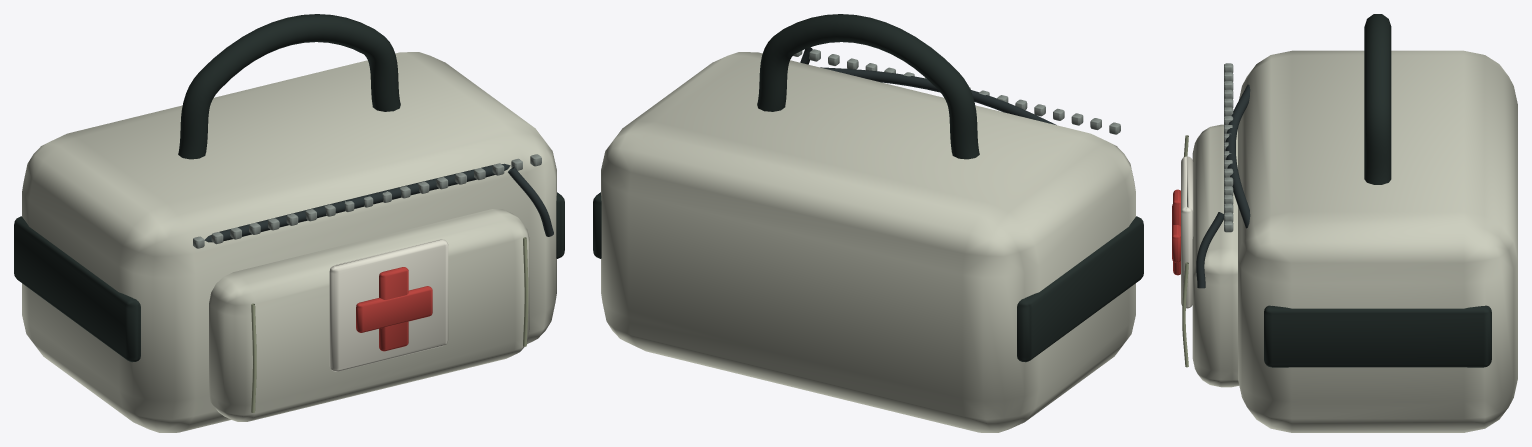
The model's file is medkit.glb.
The picture shows the model from 3 angles, left to right: view 1: azimuth 30°, elevation 25°; view 2: azimuth 150°, elevation 25°; view 3: azimuth 270°, elevation 25°; orthographic projection. The views are drawn at different scales.
Parts seen in each view (by area): view 1: MedkitMainBag, MedkitFrontPocket, MedkitHandle, MedkitCrossPatch, MedkitSideBand, MedkitCrossHorizontal, MedkitZipper, MedkitCrossVertical, MedkitZipPull, MedkitSideBand.001; view 2: MedkitMainBag, MedkitHandle, MedkitSideBand, MedkitZipper, MedkitSideBand.001; view 3: MedkitMainBag, MedkitSideBand.001, MedkitFrontPocket, MedkitHandle, MedkitCrossPatch, MedkitZipper, MedkitZipPull, MedkitPocketStitch.001, MedkitCrossVertical, MedkitCrossHorizontal.
Part boxes in pixels (left/top/right/bottom): MedkitMainBag: left=22, top=52, right=556, bottom=432; MedkitFrontPocket: left=209, top=209, right=529, bottom=421; MedkitHandle: left=178, top=14, right=400, bottom=159; MedkitCrossPatch: left=329, top=239, right=448, bottom=371; MedkitSideBand: left=14, top=216, right=140, bottom=362; MedkitCrossHorizontal: left=356, top=286, right=432, bottom=332; MedkitZipper: left=204, top=163, right=510, bottom=242; MedkitCrossVertical: left=379, top=267, right=408, bottom=351; MedkitZipPull: left=508, top=167, right=553, bottom=236; MedkitSideBand.001: left=556, top=192, right=564, bottom=258; MedkitMainBag: left=601, top=52, right=1135, bottom=432; MedkitHandle: left=757, top=14, right=979, bottom=159; MedkitSideBand: left=1017, top=216, right=1143, bottom=362; MedkitZipper: left=820, top=67, right=1056, bottom=125; MedkitSideBand.001: left=593, top=192, right=601, bottom=258; MedkitMainBag: left=1238, top=50, right=1517, bottom=432; MedkitSideBand.001: left=1264, top=305, right=1491, bottom=367; MedkitFrontPocket: left=1192, top=124, right=1239, bottom=387; MedkitHandle: left=1364, top=14, right=1391, bottom=184; MedkitCrossPatch: left=1181, top=156, right=1193, bottom=308; MedkitZipper: left=1225, top=84, right=1250, bottom=228; MedkitZipPull: left=1196, top=212, right=1223, bottom=288; MedkitPocketStitch.001: left=1182, top=262, right=1188, bottom=367; MedkitCrossVertical: left=1173, top=189, right=1180, bottom=275; MedkitCrossHorizontal: left=1172, top=204, right=1180, bottom=262.
Size of the model in its own units: 0.468 by 0.3427 by 0.3335.
